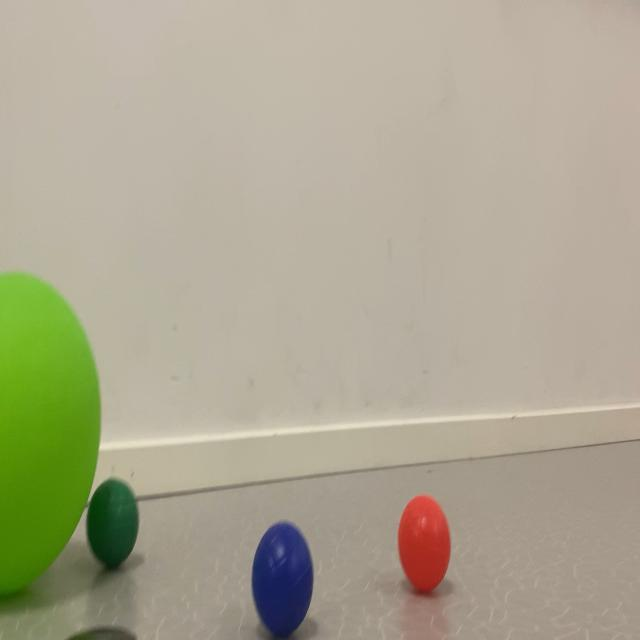7: (372, 450, 482, 610)
blue ball: (84, 471, 478, 614)
green ball: (228, 500, 332, 640)
red ball: (83, 456, 151, 582)
